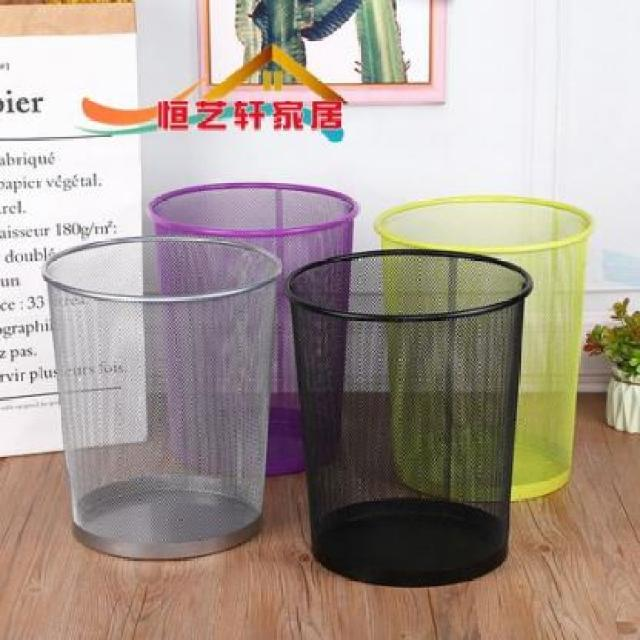dustbin: (285, 246, 536, 592), (37, 232, 286, 564), (369, 191, 598, 505), (144, 178, 362, 484)
